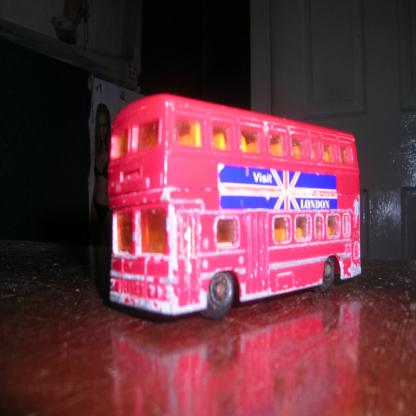Bus: (108, 94, 363, 323)
